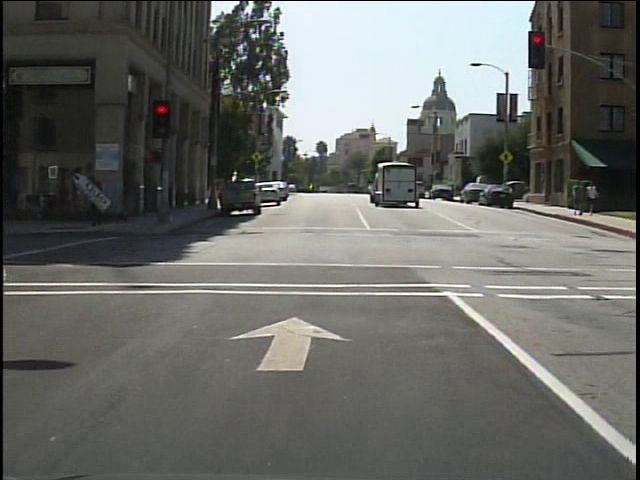person: (84, 170, 118, 234), (571, 180, 587, 220), (584, 180, 600, 217)
